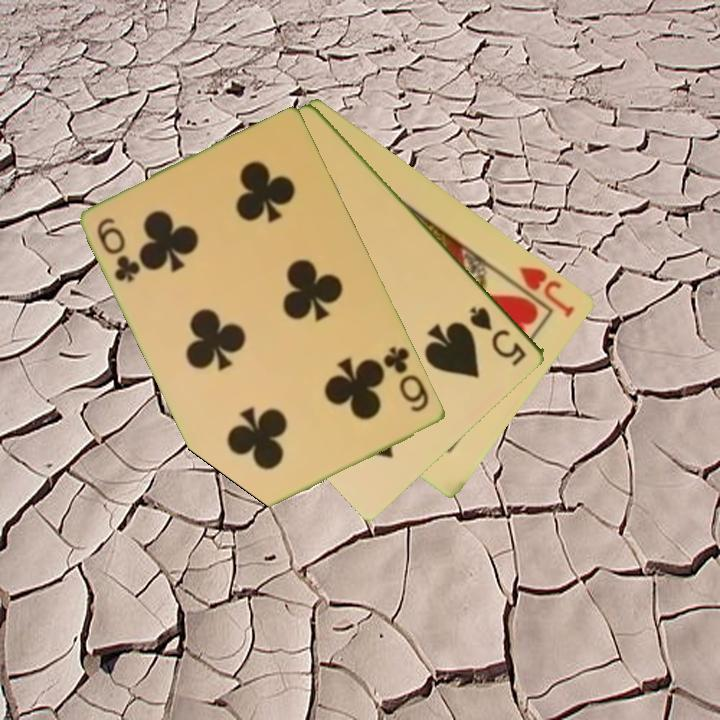5s: (466, 303, 530, 369)
6c: (380, 343, 433, 415), (93, 214, 144, 285)
Jh: (515, 262, 578, 321)
